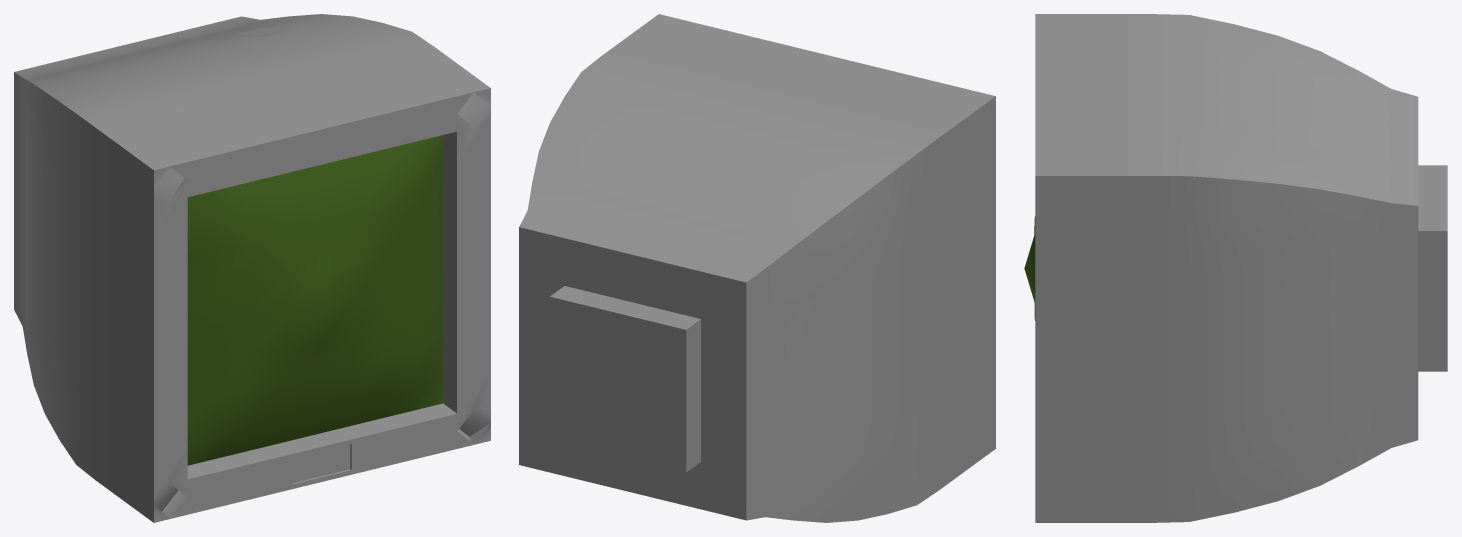
Rendered from Computer.FBX.
3 views of the same model, side by side, from view 1: azimuth 30°, elevation 25°; view 2: azimuth 150°, elevation 25°; view 3: azimuth 270°, elevation 25° (orthographic).
Parts seen in each view (by area): view 1: Object001; view 2: Object001; view 3: Object001.
Part boxes in pixels (x1=…): Object001: x1=14, y1=14, x2=490, y2=522; Object001: x1=519, y1=14, x2=995, y2=522; Object001: x1=1024, y1=14, x2=1447, y2=522.
Size of the model in its own units: 80 by 80 by 88.41.
